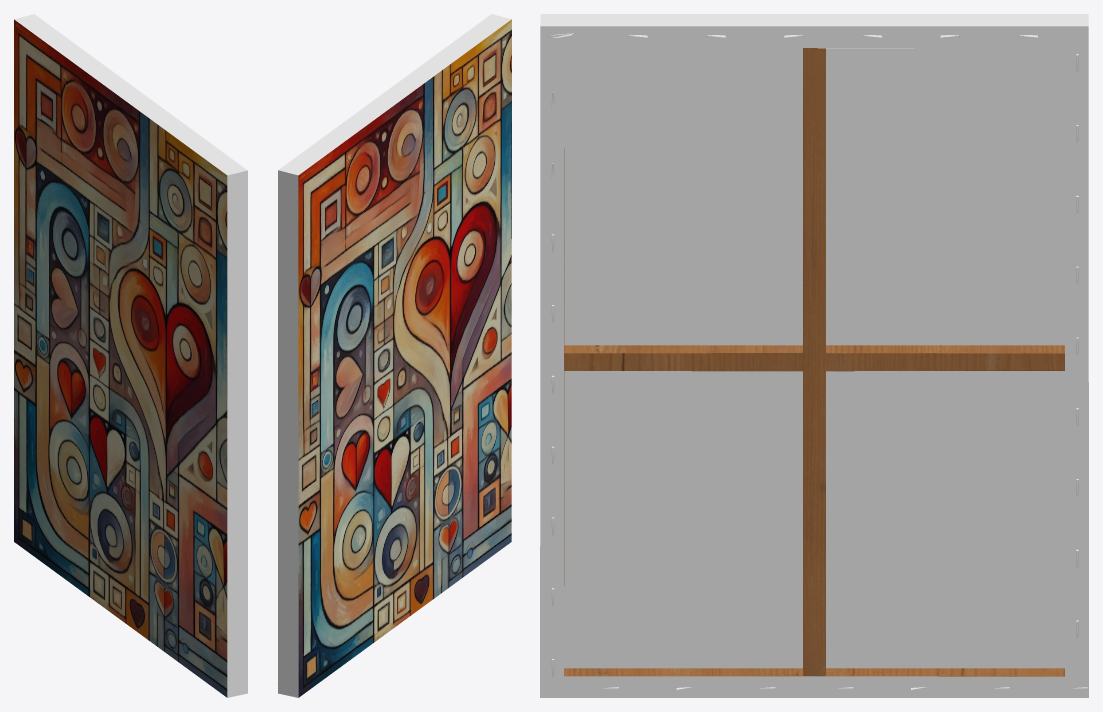
File: Painting1.glb
The picture shows the model from 3 angles, left to right: view 1: azimuth 30°, elevation 25°; view 2: azimuth 150°, elevation 25°; view 3: azimuth 270°, elevation 25°; orthographic projection. The views are drawn at different scales.
Visible parts, largest first — view 1: SM_Frame_4_2; view 2: SM_Frame_4_2; view 3: SM_Frame_4_2.
Part boxes in pixels (box(x1,y1,x2,y2)): SM_Frame_4_2: box(14, 14, 247, 697); SM_Frame_4_2: box(276, 14, 511, 697); SM_Frame_4_2: box(540, 14, 1088, 697).
Bounding box in the file's own units: 0.043 × 0.9488 × 0.7026.
Materials: 4 (2 with a texture image).
